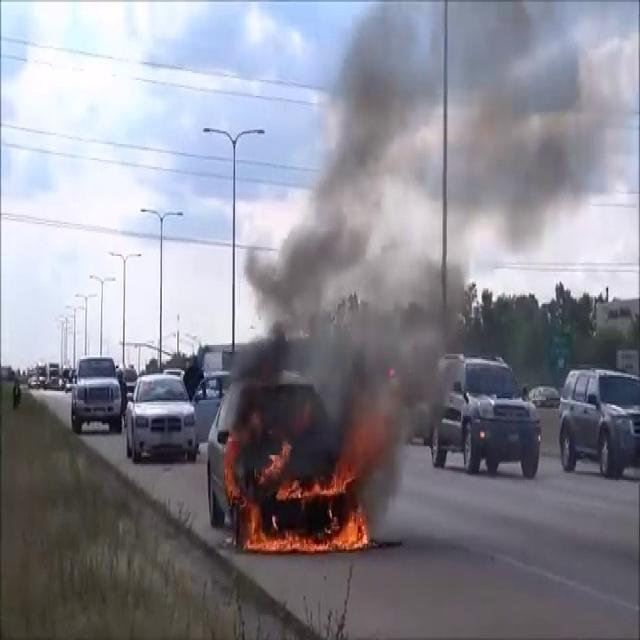Fire: (228, 458, 370, 556)
Smoke: (223, 1, 624, 474)
